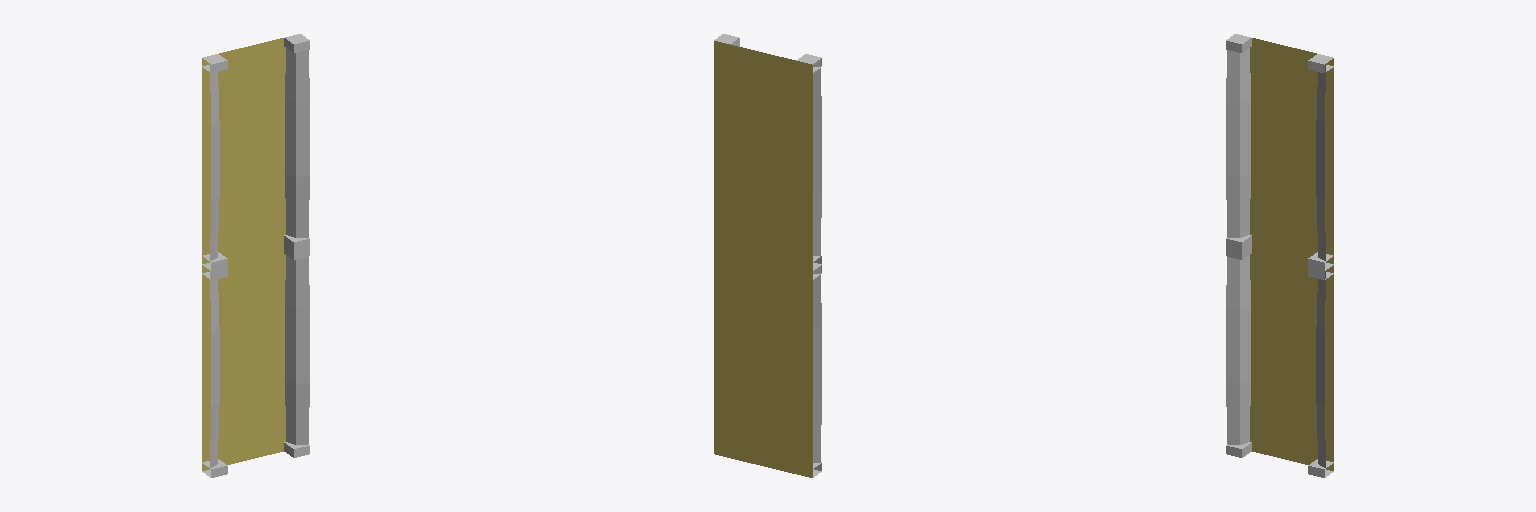
Rendered from OuterWall.obj.
3 renders of one model, left to right at view 1: azimuth 30°, elevation 25°; view 2: azimuth 150°, elevation 25°; view 3: azimuth 330°, elevation 25°, orthographic.
Visible parts, largest first — view 1: Cube.046_Column.008; view 2: Cube.046_Column.008; view 3: Cube.046_Column.008.
Part boxes in pixels (x1,y1,x2,y2): Cube.046_Column.008: (202,34,309,477); Cube.046_Column.008: (714,34,821,477); Cube.046_Column.008: (1226,34,1333,477).
Size of the model in its own units: 32 by 128 by 5.31.